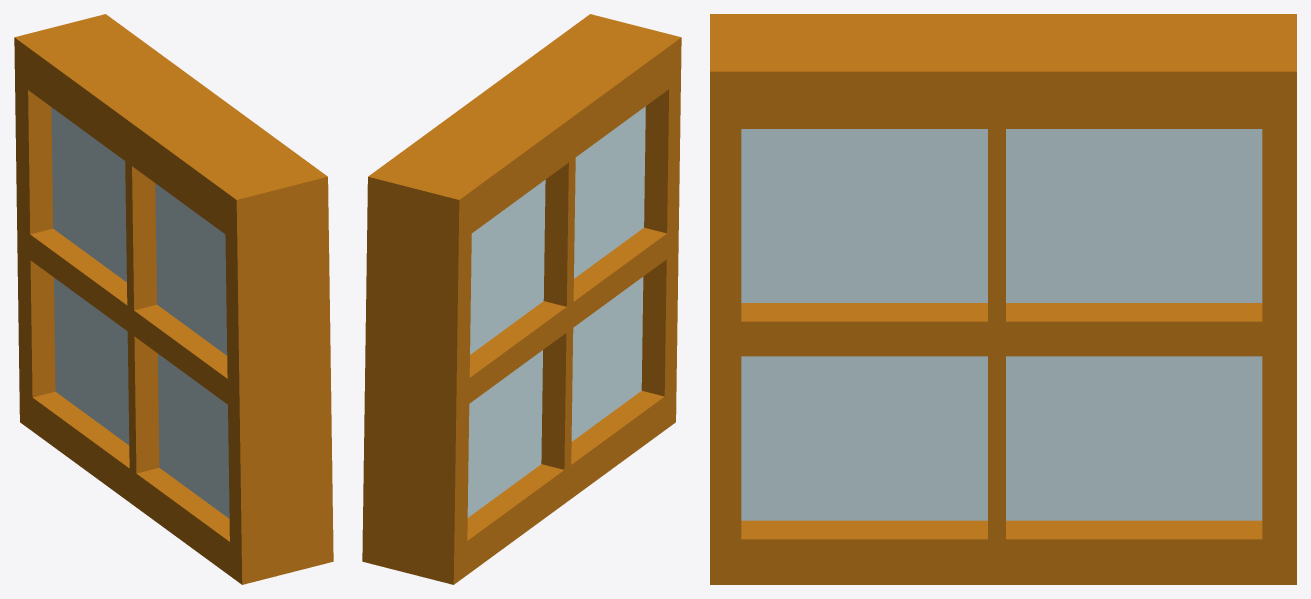
Rendered from ventana11.obj.
The picture shows the model from 3 angles, left to right: view 1: azimuth 30°, elevation 25°; view 2: azimuth 150°, elevation 25°; view 3: azimuth 270°, elevation 25°; orthographic projection. The views are drawn at different scales.
Parts seen in each view (by area): view 1: pasted__pasted__pasted__pasted__pasted__pasted__pasted__pasted__; view 2: pasted__pasted__pasted__pasted__pasted__pasted__pasted__pasted__; view 3: pasted__pasted__pasted__pasted__pasted__pasted__pasted__pasted__.
Part boxes in pixels (<box>): pasted__pasted__pasted__pasted__pasted__pasted__pasted__pasted__: <box>14,14,333,584</box>; pasted__pasted__pasted__pasted__pasted__pasted__pasted__pasted__: <box>362,14,681,584</box>; pasted__pasted__pasted__pasted__pasted__pasted__pasted__pasted__: <box>710,14,1296,584</box>.
Bounding box in the file's own units: 0.2166 × 0.8268 × 0.8601.
Materials: 1 (1 with a texture image).
